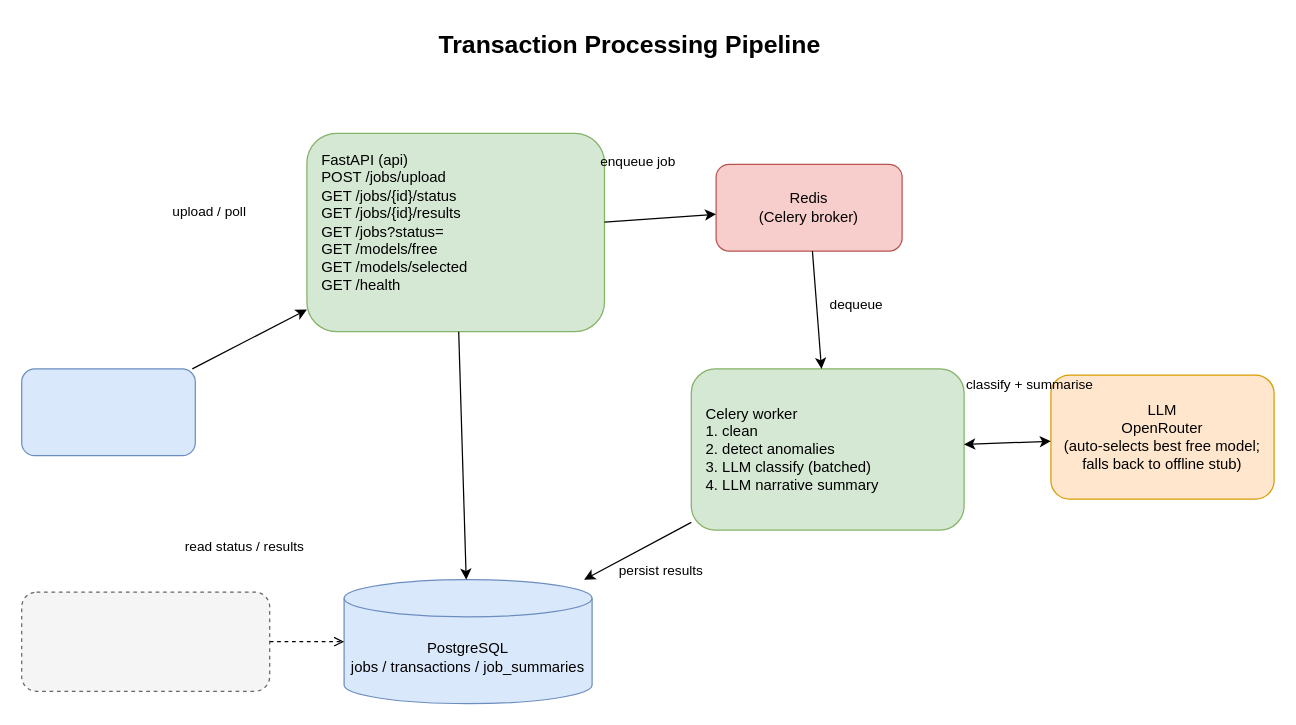
The diagram is 1296 pixels wide and 725 high, and some of its shapes have lost their labels. The centre of each missing label's shape, as x and y in pixels:
"Client (curl / browser)" goes at (x=107, y=412).
"migrate (one-shot) alembic upgrade head runs before api & worker" goes at (x=145, y=641).
